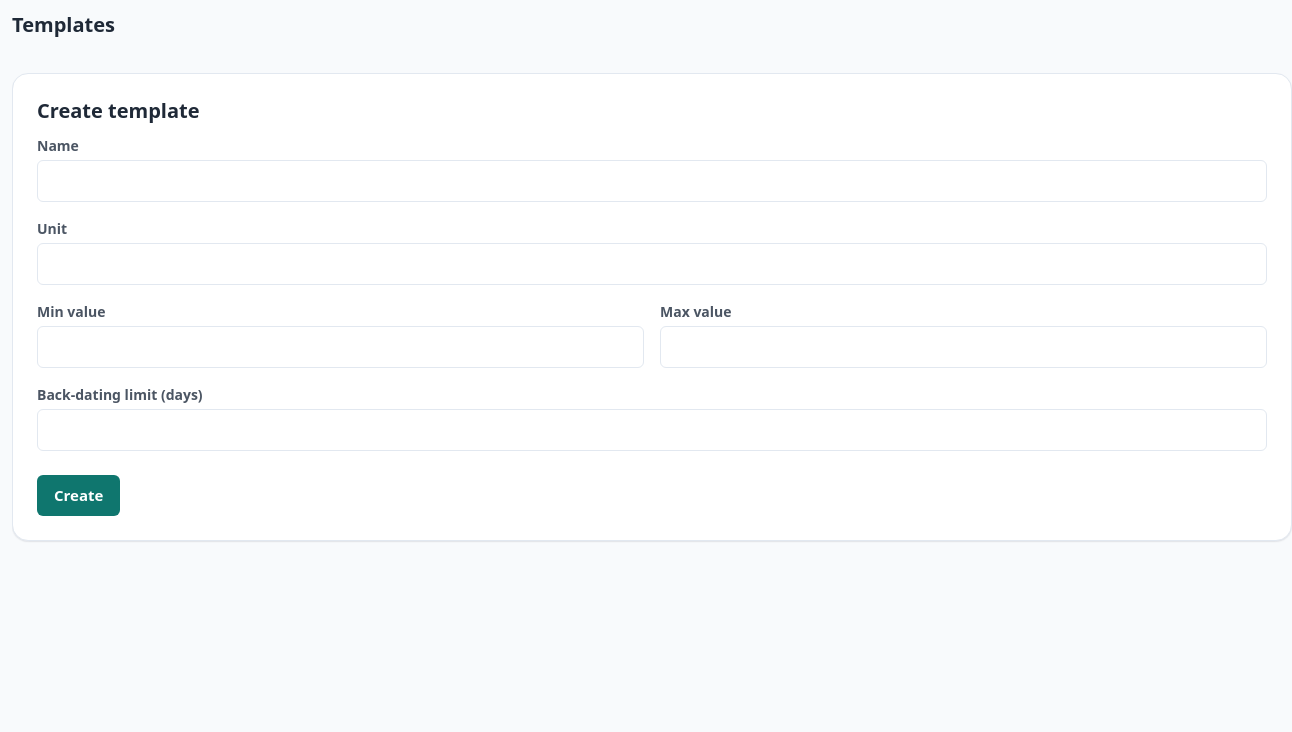
Test: AC-02.16 / AC-02.17 create flow › TEST-02.16 a Manager creating a valid template sends POST /templates and it appears in the list
Type "Running" into the field labelled "Name" at [652, 181], box x1=37 y1=160 x2=1267 y2=202
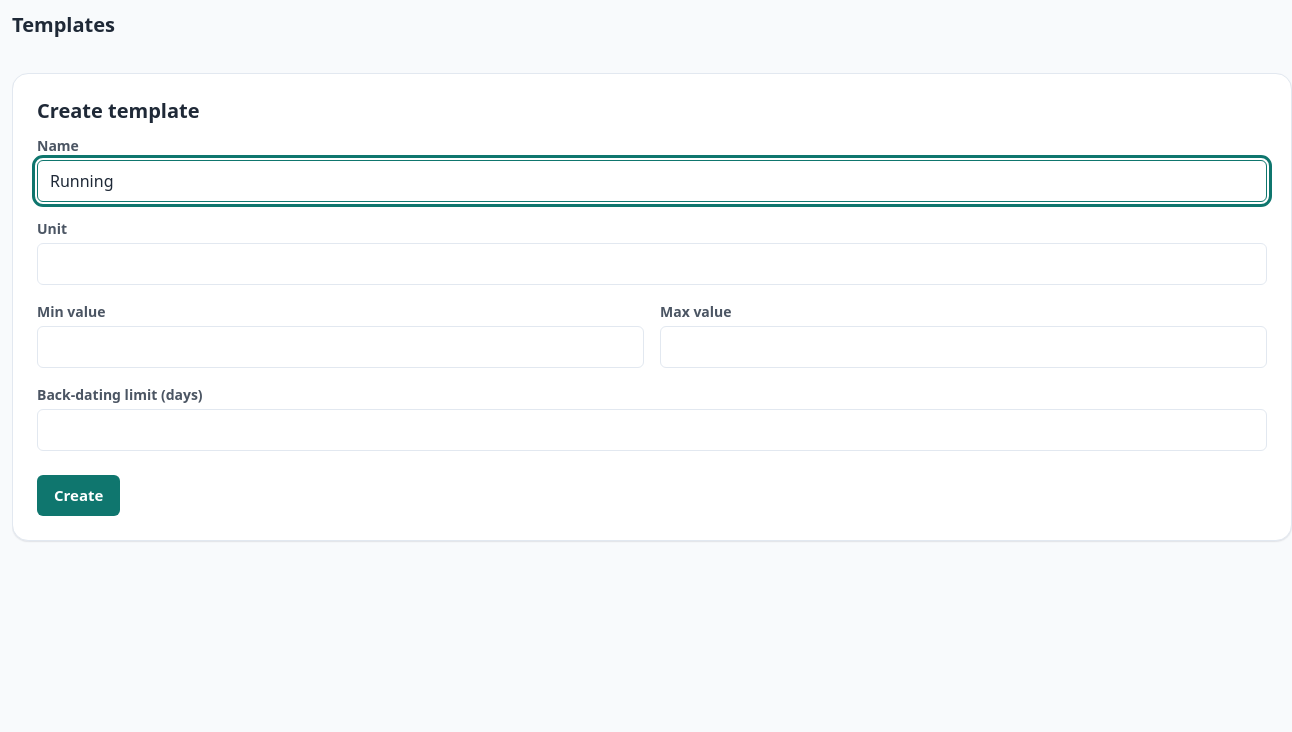
Type "km" into the field labelled "Unit" at [652, 264], box x1=37 y1=243 x2=1267 y2=285
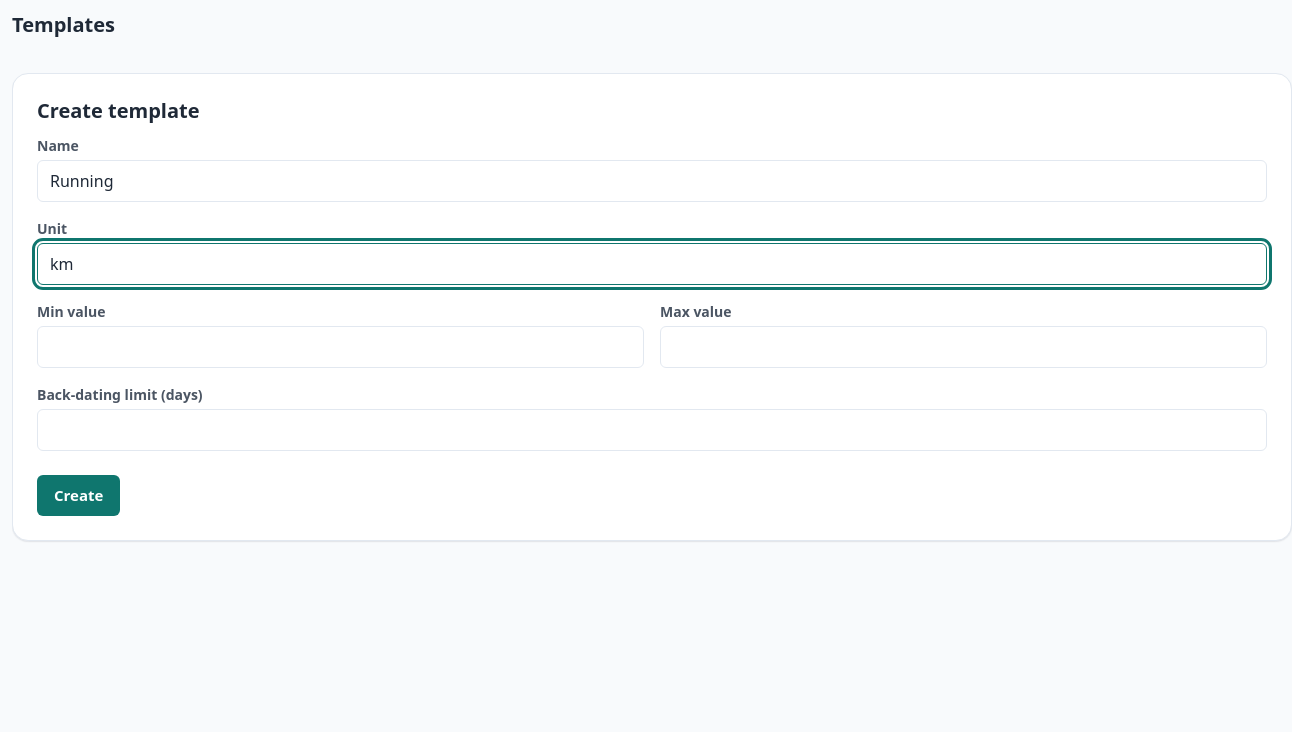
Type "0" into the number field labelled "Min value" at [340, 347], box x1=37 y1=326 x2=644 y2=368
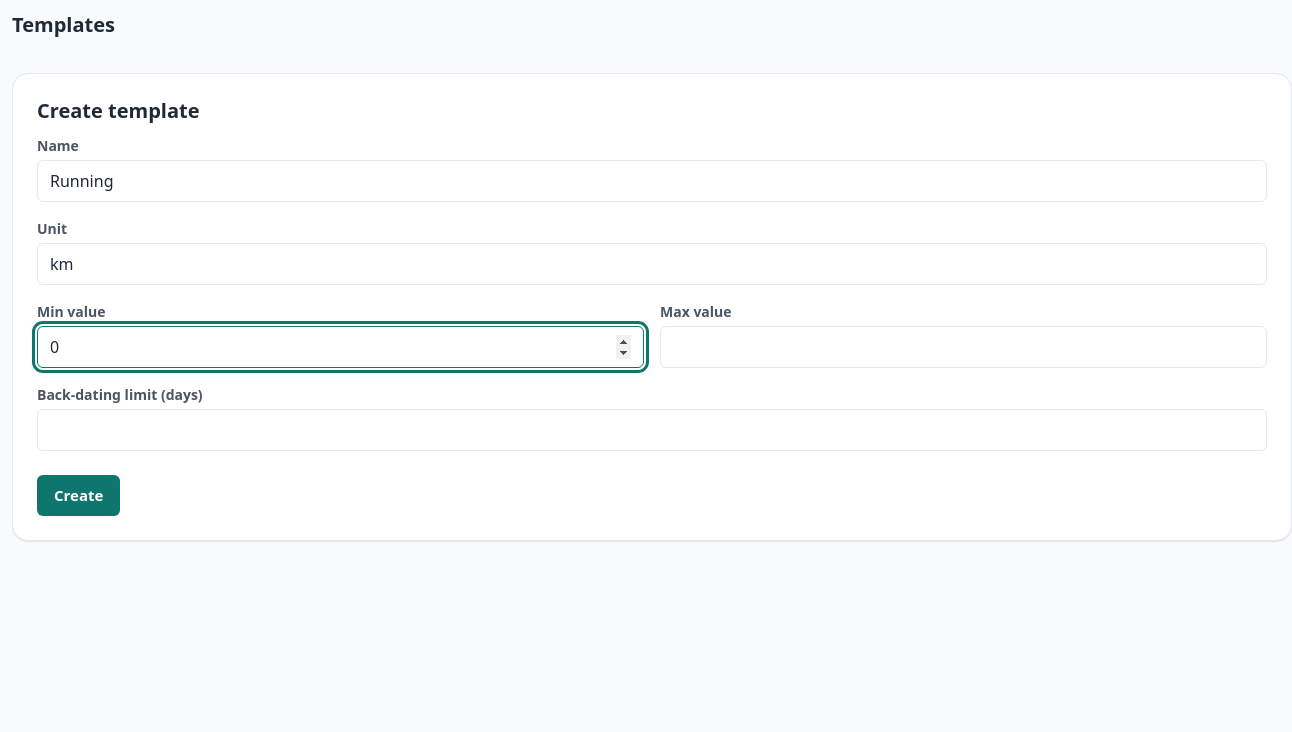
Type "50" into the number field labelled "Max value" at [964, 347], box x1=660 y1=326 x2=1267 y2=368
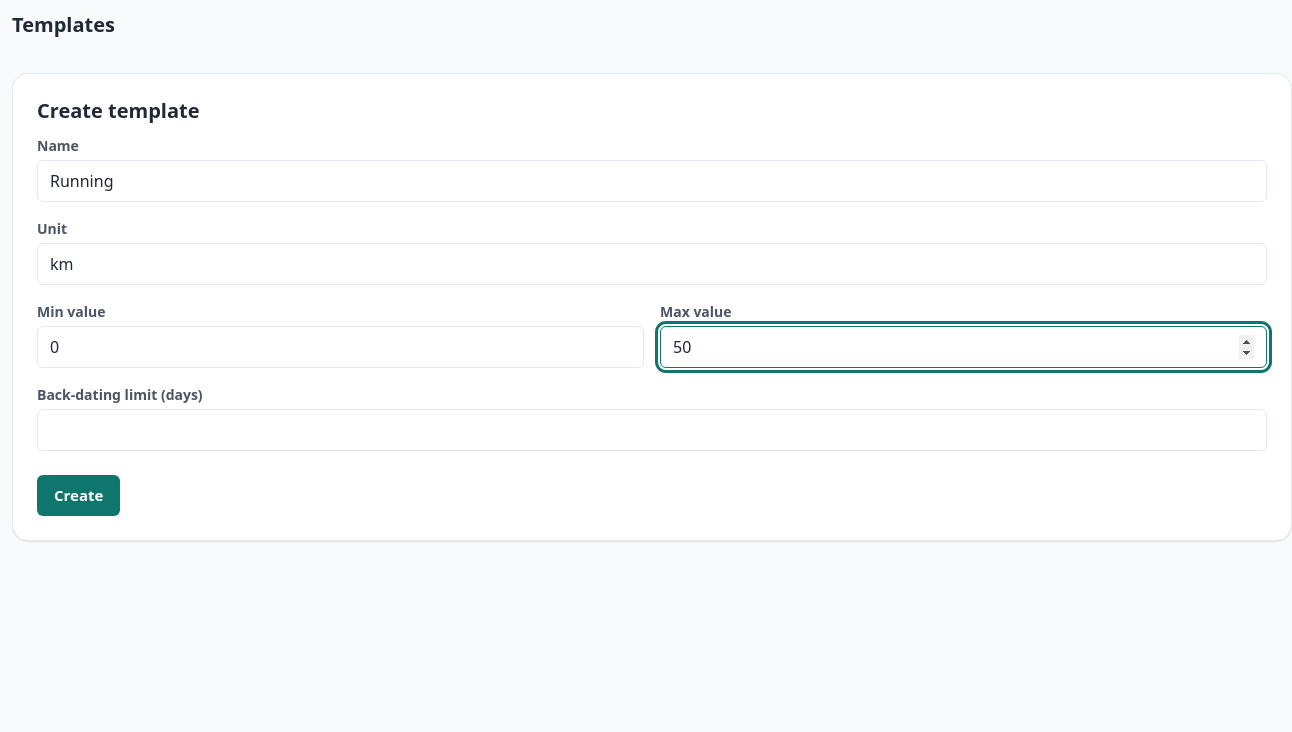
Click the button "Create" at [79, 495], box x1=37 y1=475 x2=120 y2=516
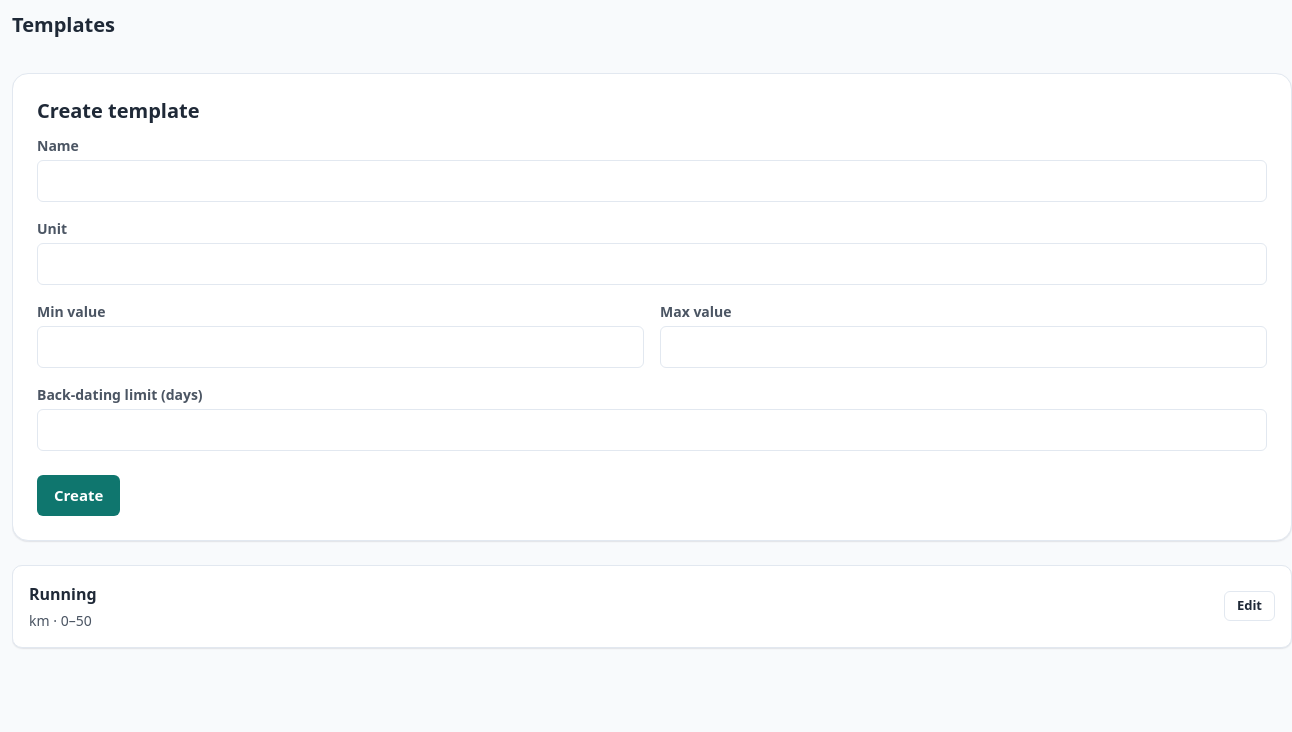
Now the text "Running" is shown, box x1=29 y1=582 x2=97 y2=606
